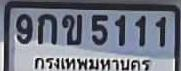1: (134, 15, 145, 45), (114, 14, 124, 45), (155, 16, 165, 46)
5: (91, 14, 107, 44)
9: (15, 13, 32, 43)
A01: (37, 13, 56, 44)
A02: (61, 14, 81, 45)
BKK: (33, 55, 154, 71)
